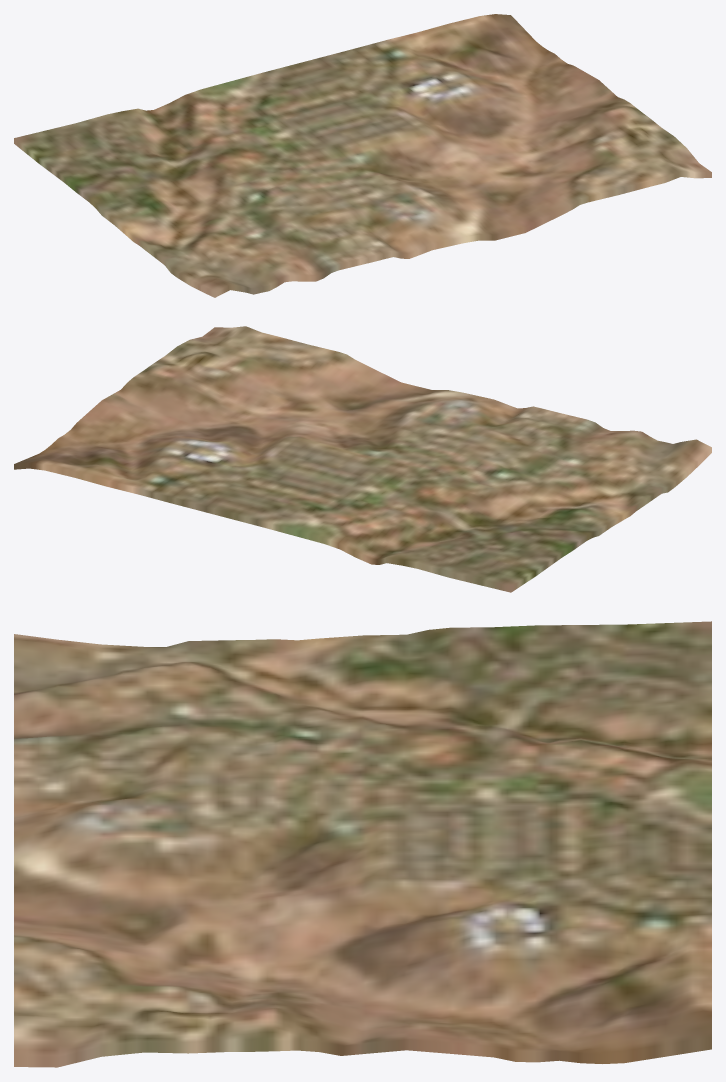
File: terrain_r4_c2_lod2.glb
3 renders of one model, top to bottom at view 1: azimuth 30°, elevation 25°; view 2: azimuth 150°, elevation 25°; view 3: azimuth 270°, elevation 25°, orthographic. The views are drawn at different scales.
Parts seen in each view (by area): view 1: terrain_r4_c2_lod2; view 2: terrain_r4_c2_lod2; view 3: terrain_r4_c2_lod2.
Boxes of the visible parts, left/top/right/bottom form: terrain_r4_c2_lod2: left=14, top=14, right=711, bottom=297; terrain_r4_c2_lod2: left=14, top=326, right=711, bottom=592; terrain_r4_c2_lod2: left=14, top=621, right=711, bottom=1067.
Bounding box in the file's own units: 1125 × 69.63 × 787.
Materials: 1 (1 with a texture image).
